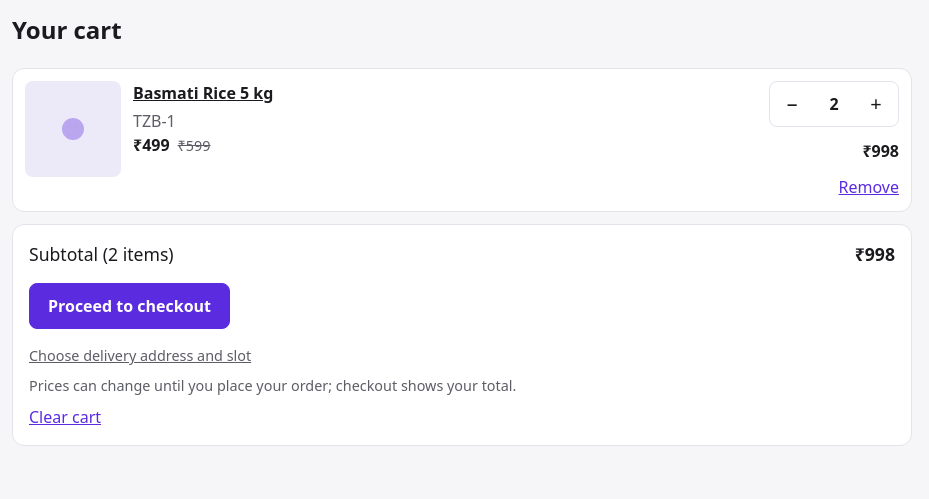
CartView changes › is not optimistic: a failed change leaves the old cart and announces the failure in an alert
What coordinates should you click on to do the following:
click the button named "Increase quantity of Basmati Rice 5 kg"
I would click on:
 (876, 104)
Its box is [854,82,898,126].
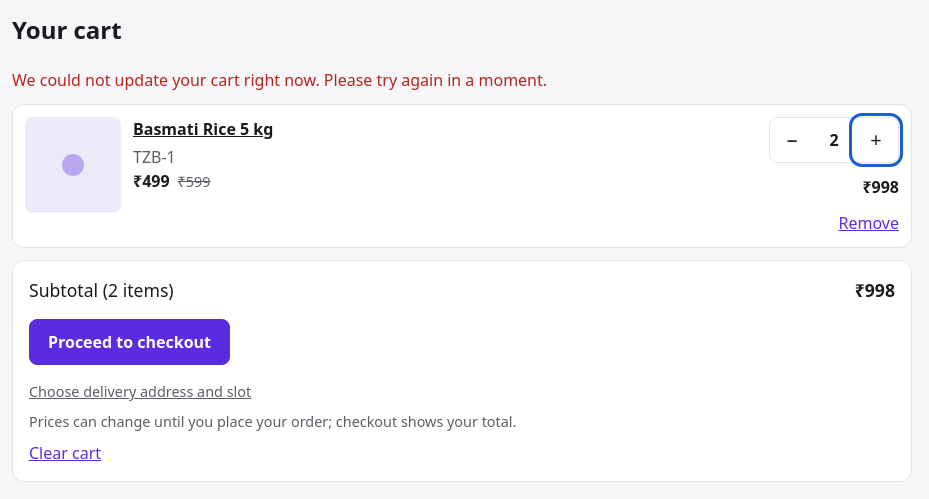
expect the text with test id "cart-subtotal" reads "₹998": met, box [855,278,895,302]
expect the message shows "We could not update your cart right now.": met, box [12,69,547,91]
